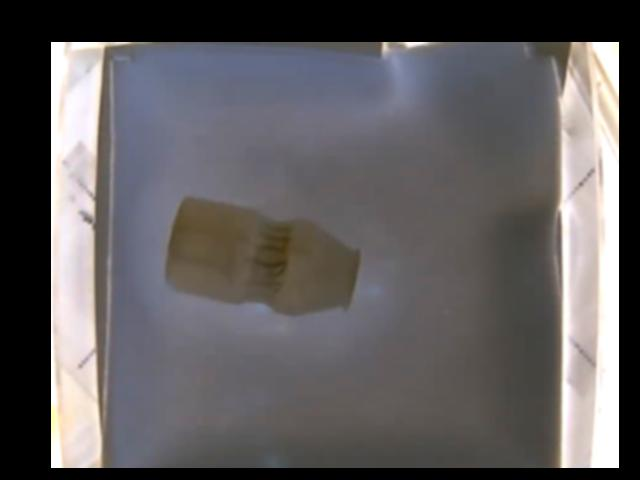Bottle: (168, 193, 358, 318)
